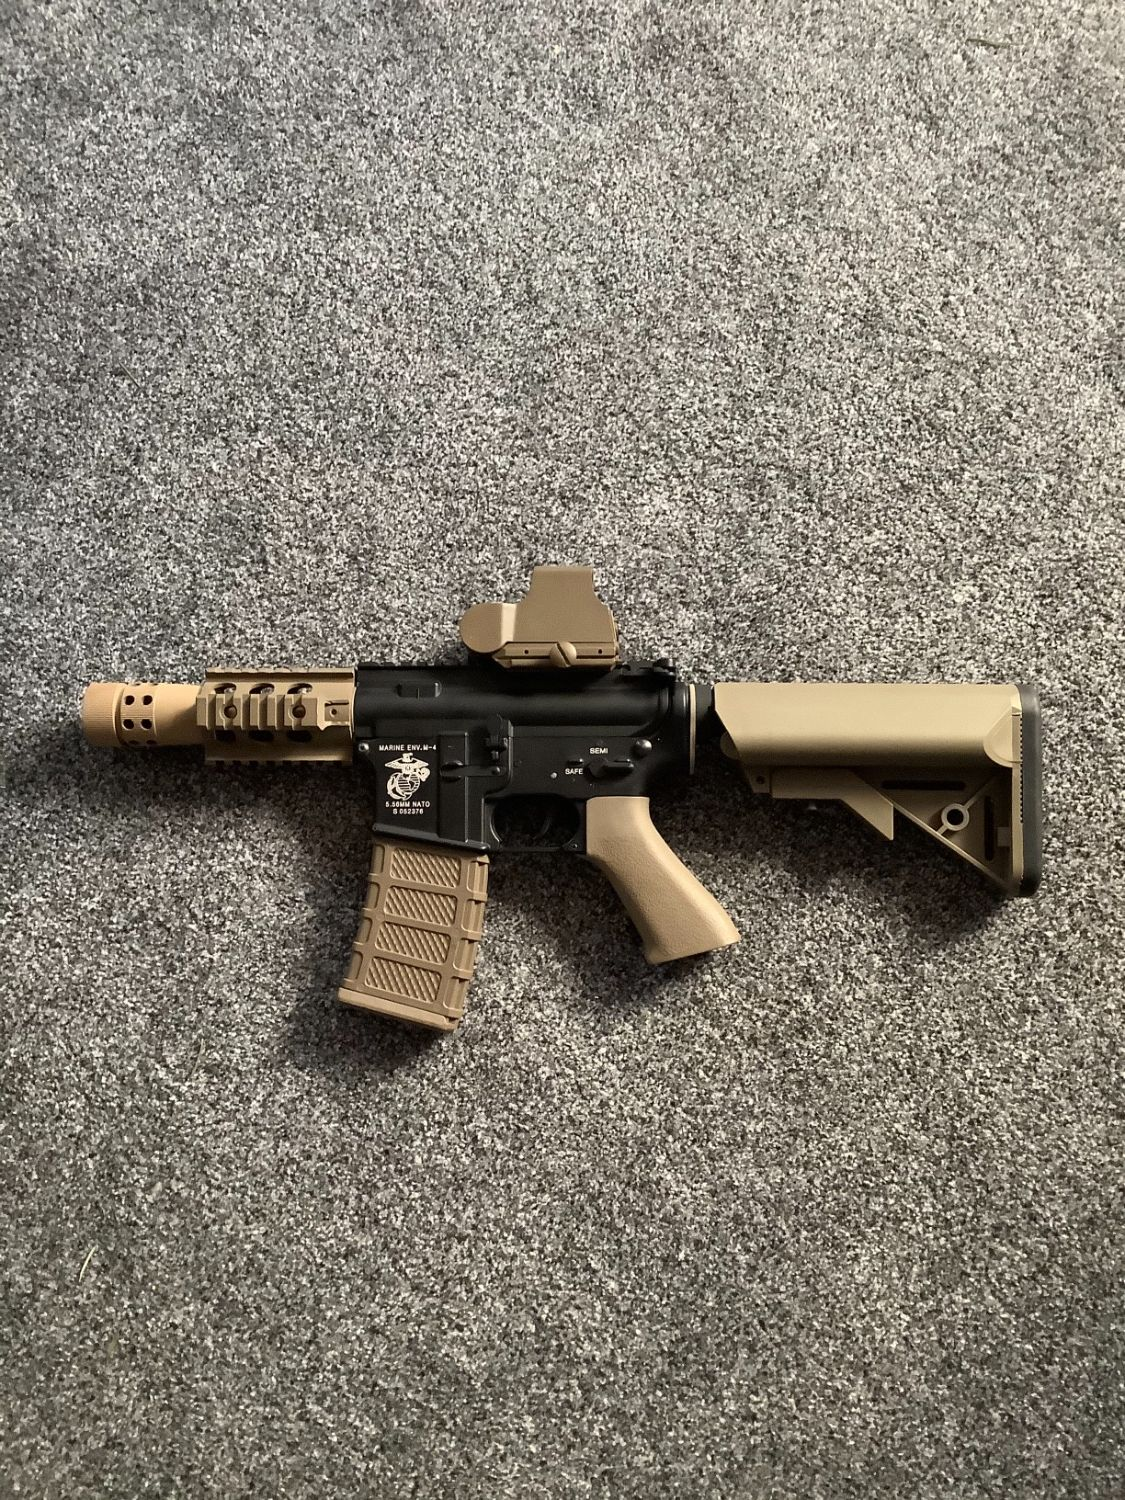m4_carbine: (351, 656, 742, 1100)
